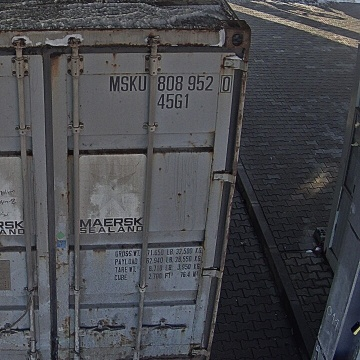serial_id: (109, 76, 230, 91)
